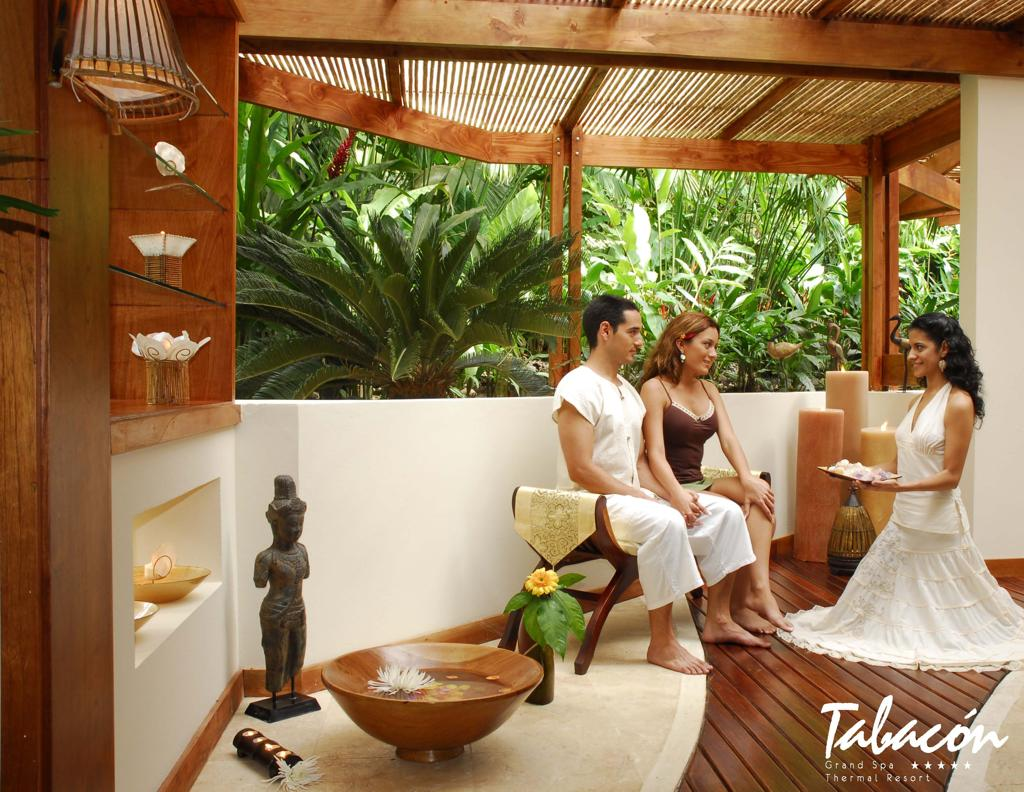face: (612, 308, 643, 363), (685, 324, 718, 374), (906, 327, 938, 377)
